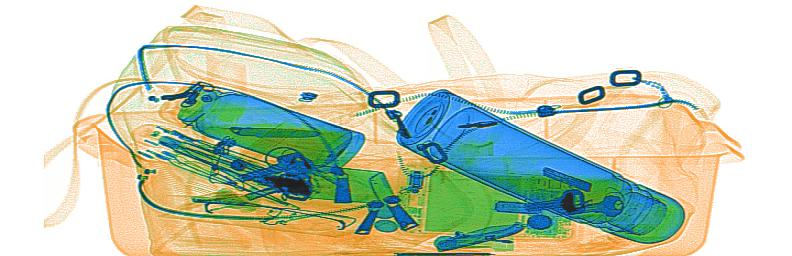knife: (432, 221, 524, 250), (227, 125, 322, 139)
